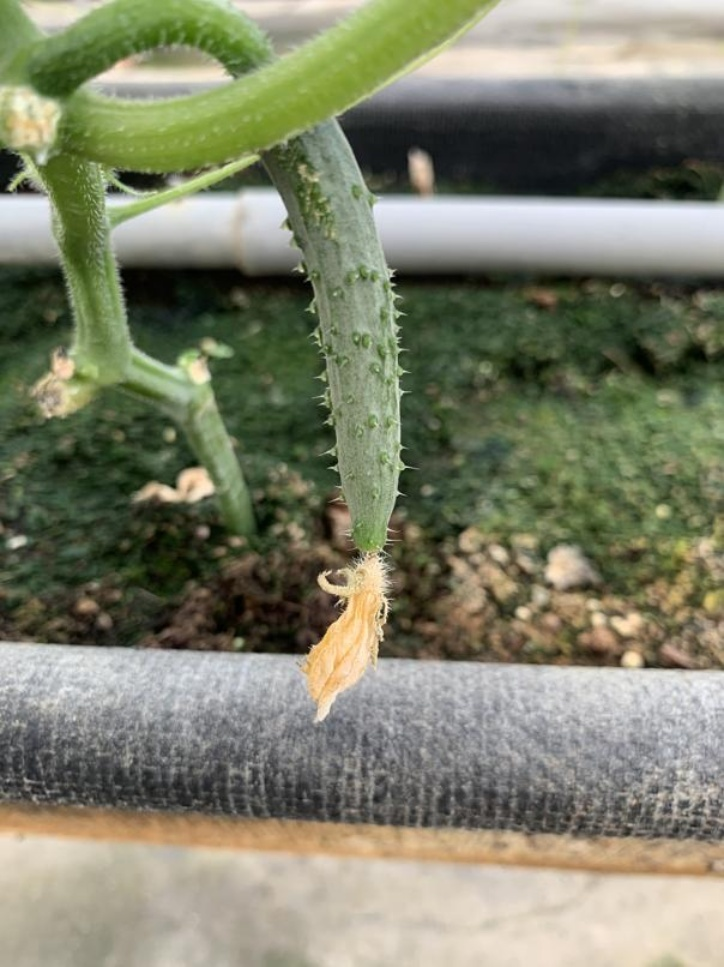bear: (254, 172, 449, 727)
